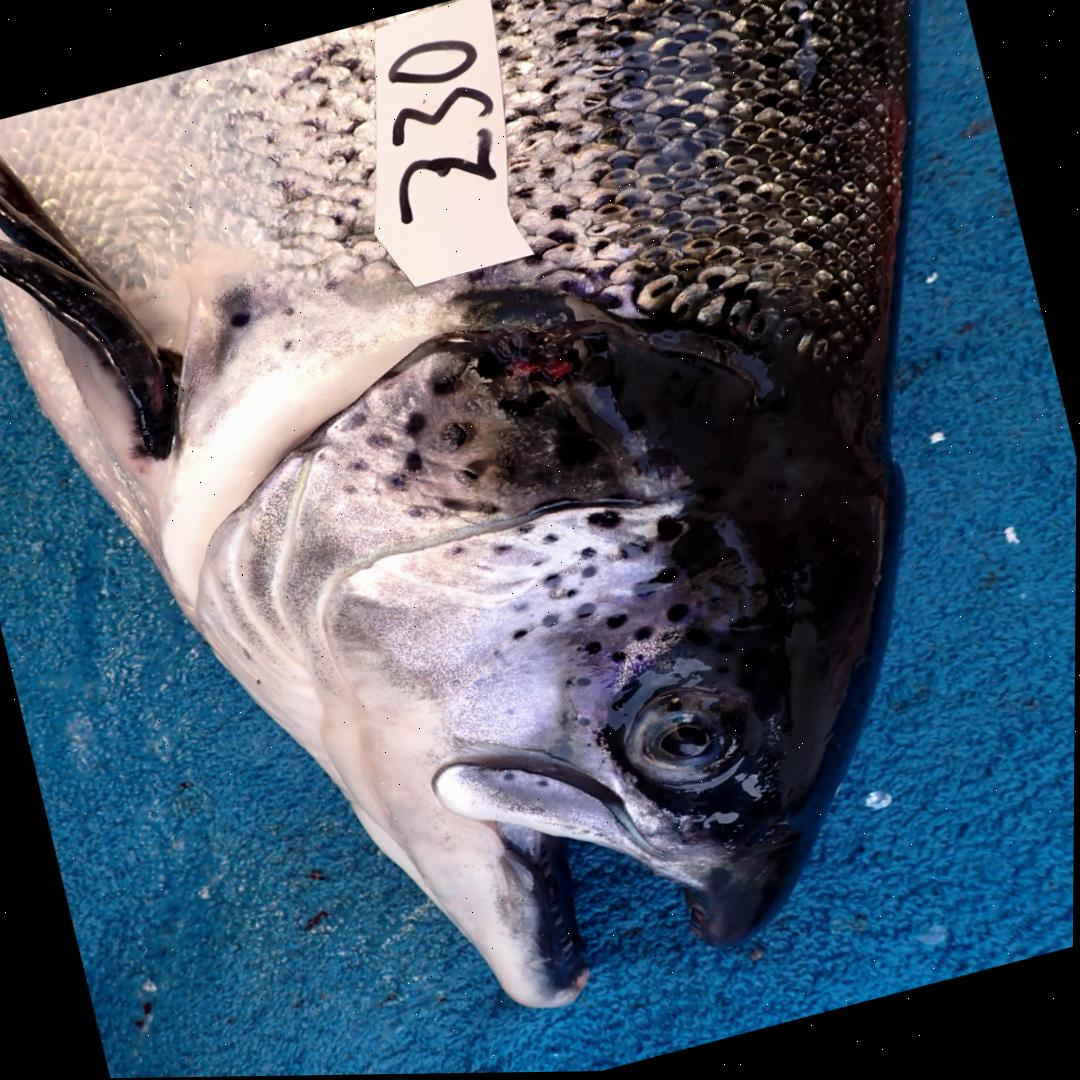spot: (635, 447, 686, 483), (555, 436, 600, 467), (499, 391, 549, 417), (632, 568, 677, 596), (441, 497, 503, 514), (332, 405, 370, 432), (475, 352, 504, 379), (441, 423, 468, 450), (657, 517, 684, 543), (587, 510, 621, 530), (616, 542, 649, 562), (363, 431, 395, 451), (380, 470, 409, 492), (432, 373, 458, 396), (404, 412, 425, 436), (464, 460, 488, 481), (487, 540, 513, 559), (510, 519, 538, 536), (667, 604, 689, 623), (403, 451, 422, 473), (579, 562, 599, 581), (542, 573, 563, 591), (336, 481, 358, 498), (345, 458, 370, 472), (576, 603, 597, 619), (606, 615, 627, 629), (540, 532, 561, 546), (542, 614, 560, 628), (580, 546, 598, 560), (608, 651, 627, 664), (585, 642, 603, 655), (634, 627, 652, 640), (512, 628, 530, 641), (577, 677, 592, 688), (516, 603, 530, 614), (409, 509, 423, 519), (578, 717, 590, 726), (564, 590, 577, 598), (452, 547, 464, 555)
